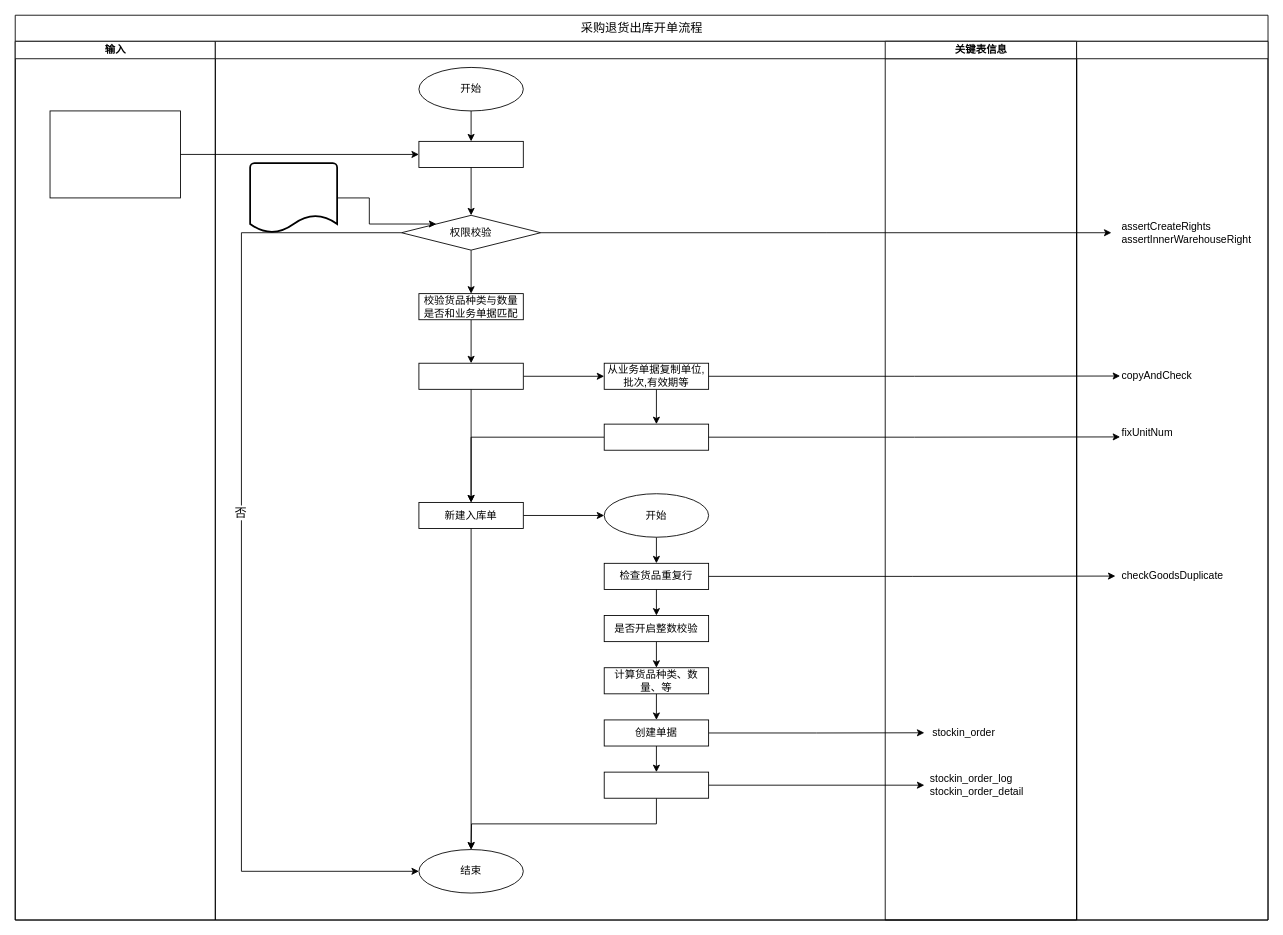
Image size: 1283x935. Some labels were removed from this diagram. The box of each missing label's shape, as (x1, y1, x2, y2) in pixels:
1、采购退货入库开单手动录入 2、单品进行导入: (49, 110, 181, 198)
提交权限 审核权限 仓库权限: (249, 162, 338, 233)
插入详情和日志: (603, 771, 709, 798)
方法: (1076, 40, 1268, 920)
检查数量: (418, 362, 523, 389)
自动填充单位和辅助数量及其它字段: (603, 423, 709, 450)
输入采购入库单信息: (418, 141, 523, 167)
